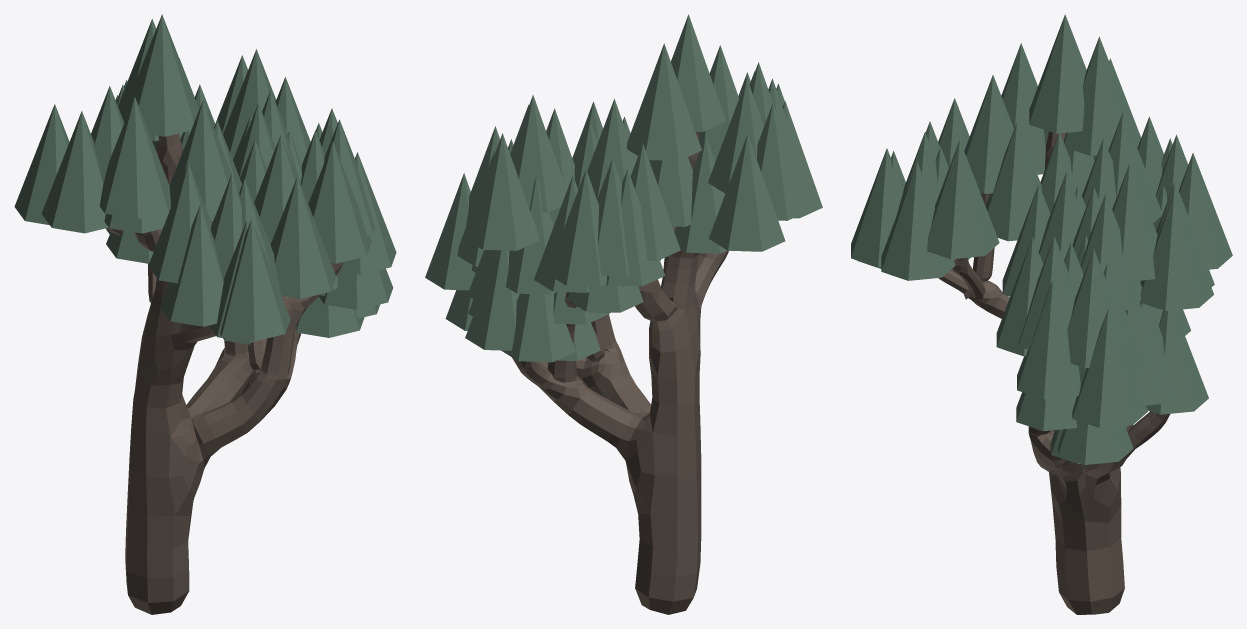
File: pine.glb
3 renders of one model, left to right at view 1: azimuth 30°, elevation 25°; view 2: azimuth 150°, elevation 25°; view 3: azimuth 270°, elevation 25°, orthographic. The views are drawn at different scales.
Visible parts, largest first — view 1: tree, Cone.067, Cone.069, Cone.058, Cone.052, Cone.063, Cone.057, Cone.014, Cone.062, Cone.060, Cone.064, Cone.053 (+18 smaller); view 2: tree, Cone.064, Cone.041, Cone.068, Cone.043, Cone.042, Cone.023, Cone.024, Cone.063, Cone.069, Cone.047, Cone.033 (+20 smaller); view 3: tree, Cone.033, Cone.053, Cone.041, Cone.052, Cone.013, Cone.069, Cone.068, Cone.061, Cone.062, Cone.042, Cone.038 (+25 smaller).
Part boxes in pixels (left/top/right/bottom): tree: left=105, top=133, right=342, bottom=614; Cone.067: left=99, top=96, right=170, bottom=218; Cone.069: left=122, top=14, right=198, bottom=136; Cone.058: left=220, top=219, right=290, bottom=341; Cone.052: left=270, top=177, right=336, bottom=298; Cone.063: left=41, top=111, right=108, bottom=233; Cone.057: left=160, top=204, right=223, bottom=326; Cone.014: left=308, top=141, right=371, bottom=263; Cone.062: left=169, top=100, right=231, bottom=221; Cone.060: left=148, top=163, right=211, bottom=283; Cone.064: left=14, top=104, right=69, bottom=225; Cone.053: left=254, top=135, right=297, bottom=244; tree: left=512, top=131, right=728, bottom=614; Cone.064: left=708, top=134, right=785, bottom=251; Cone.041: left=463, top=133, right=539, bottom=250; Cone.068: left=627, top=43, right=701, bottom=160; Cone.043: left=547, top=169, right=606, bottom=286; Cone.042: left=510, top=95, right=566, bottom=212; Cone.023: left=501, top=293, right=575, bottom=362; Cone.024: left=465, top=250, right=519, bottom=350; Cone.063: left=757, top=103, right=810, bottom=220; Cone.069: left=671, top=14, right=725, bottom=131; Cone.047: left=674, top=136, right=727, bottom=253; Cone.033: left=425, top=173, right=475, bottom=290; tree: left=938, top=131, right=1170, bottom=614; Cone.033: left=1072, top=308, right=1147, bottom=427; Cone.053: left=927, top=140, right=999, bottom=259; Cone.041: left=1140, top=192, right=1213, bottom=310; Cone.052: left=881, top=161, right=955, bottom=280; Cone.013: left=1017, top=280, right=1080, bottom=399; Cone.069: left=1029, top=14, right=1086, bottom=133; Cone.068: left=1063, top=36, right=1138, bottom=155; Cone.061: left=985, top=122, right=1041, bottom=241; Cone.062: left=964, top=75, right=1013, bottom=193; Cone.042: left=1112, top=163, right=1157, bottom=281; Cone.038: left=1067, top=249, right=1118, bottom=368.
Bounding box in the file's own units: 4.31 × 6.91 × 4.02.
